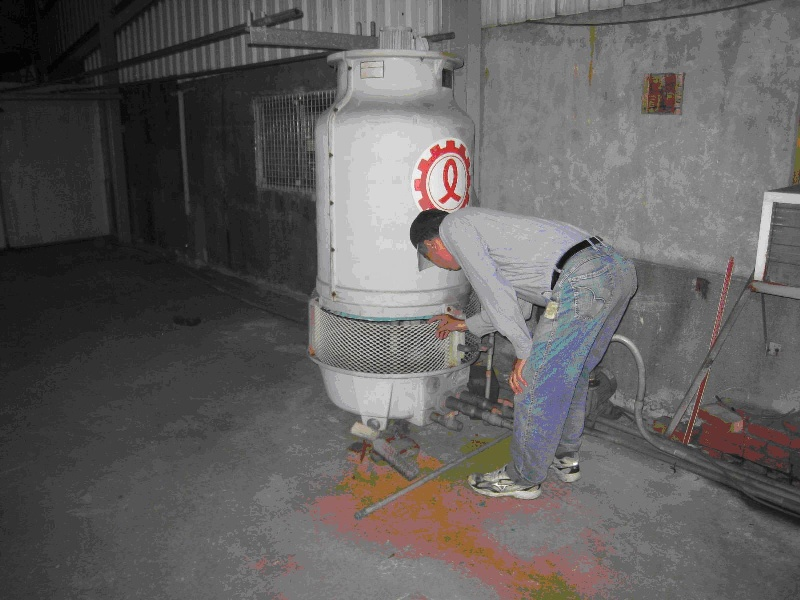water_tower: (307, 47, 476, 431)
